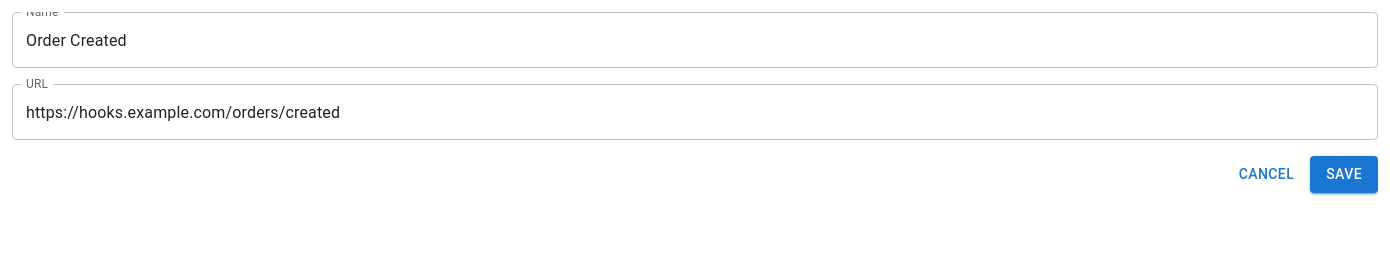
Test: WebhookForm › shows server validation errors next to Name and URL
The width and height of the screenshot is (1390, 258).
Clear the field labelled "Name" at coordinates (695, 40), box [12, 12, 1378, 68]
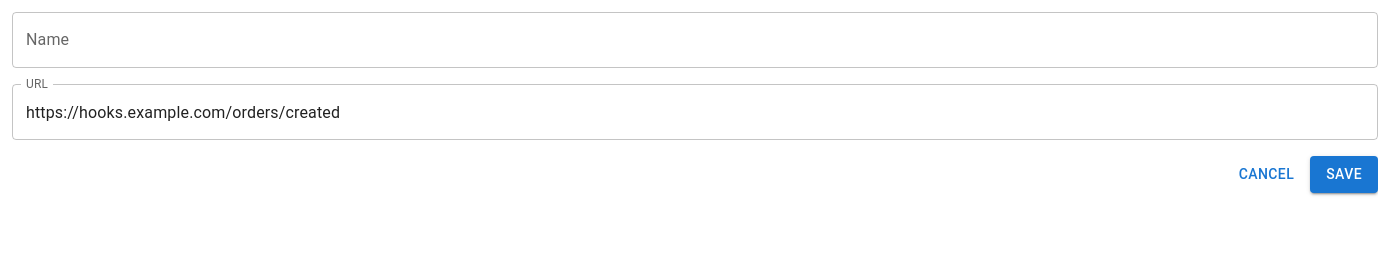
Replace the text in the field labelled "URL" with "not-a-url" at coordinates (695, 112), box [12, 84, 1378, 140]
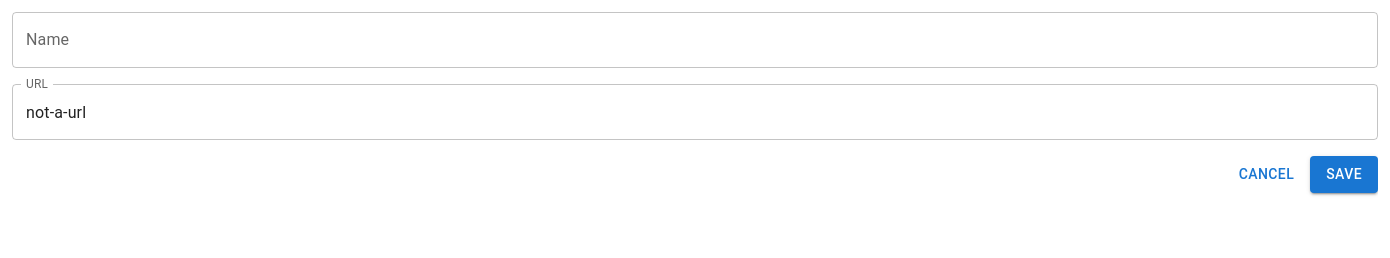
Click the button "Save" at coordinates (1344, 174), box [1310, 156, 1378, 192]
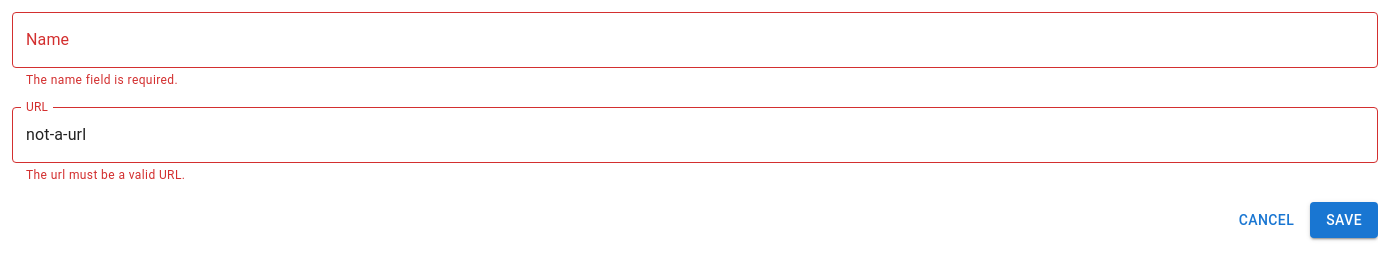
Result: the text "The name field is required." is shown at [26, 73, 178, 87]
Result: the text "The url must be a valid URL." is shown at [26, 168, 185, 182]
